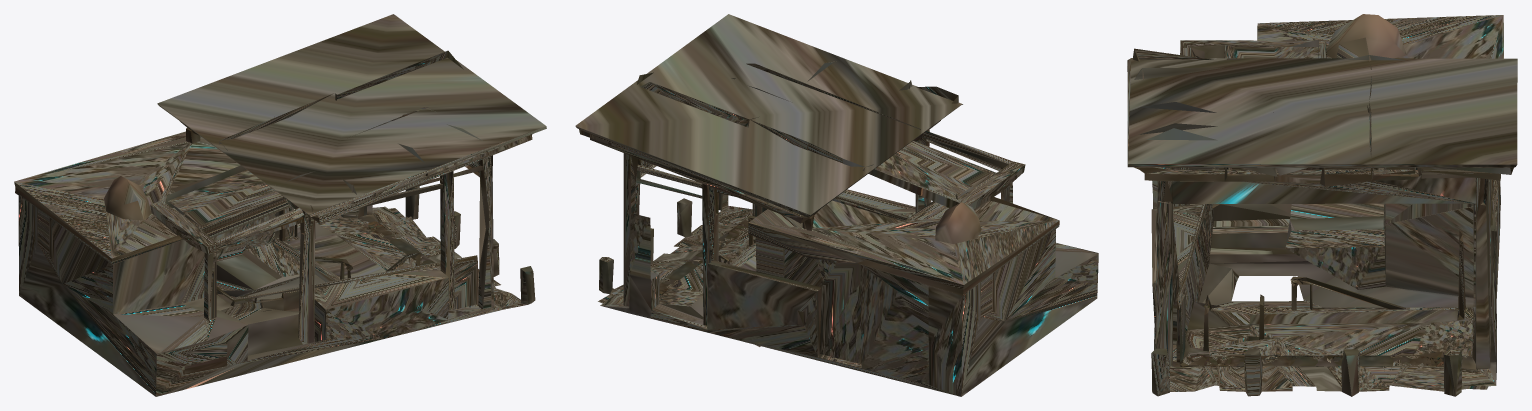
File: s02_far.glb
3 renders of one model, left to right at view 1: azimuth 30°, elevation 25°; view 2: azimuth 150°, elevation 25°; view 3: azimuth 270°, elevation 25°, orthographic. The views are drawn at different scales.
Parts seen in each view (by area): view 1: s02_far; view 2: s02_far; view 3: s02_far.
Part boxes in pixels (x1=…): s02_far: x1=14, y1=14, x2=546, y2=396; s02_far: x1=575, y1=14, x2=1098, y2=396; s02_far: x1=1127, y1=14, x2=1517, y2=396.
Size of the model in its own units: 12.06 by 6 by 8.32.
1 material, 1 textured.
